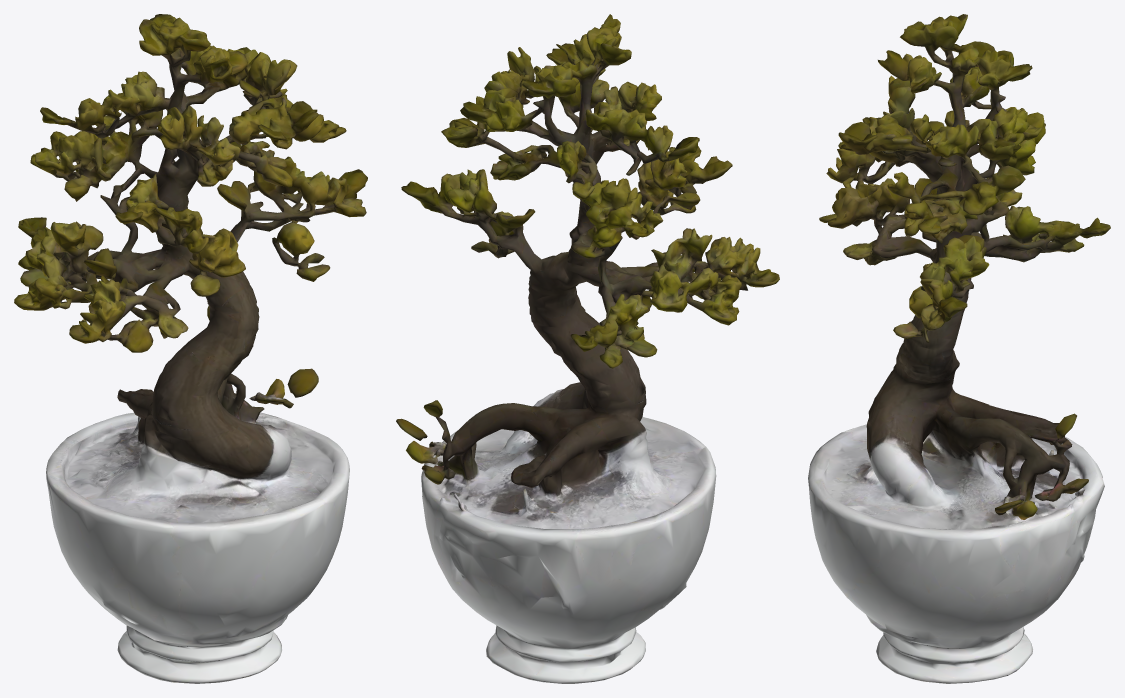
The model's file is apex-flora-bonsai.glb.
3 renders of one model, left to right at view 1: azimuth 30°, elevation 25°; view 2: azimuth 150°, elevation 25°; view 3: azimuth 270°, elevation 25°, orthographic. The views are drawn at different scales.
Bounding box in the file's own units: 1.13 × 2 × 0.8919.
Materials: 1 (1 with a texture image).
